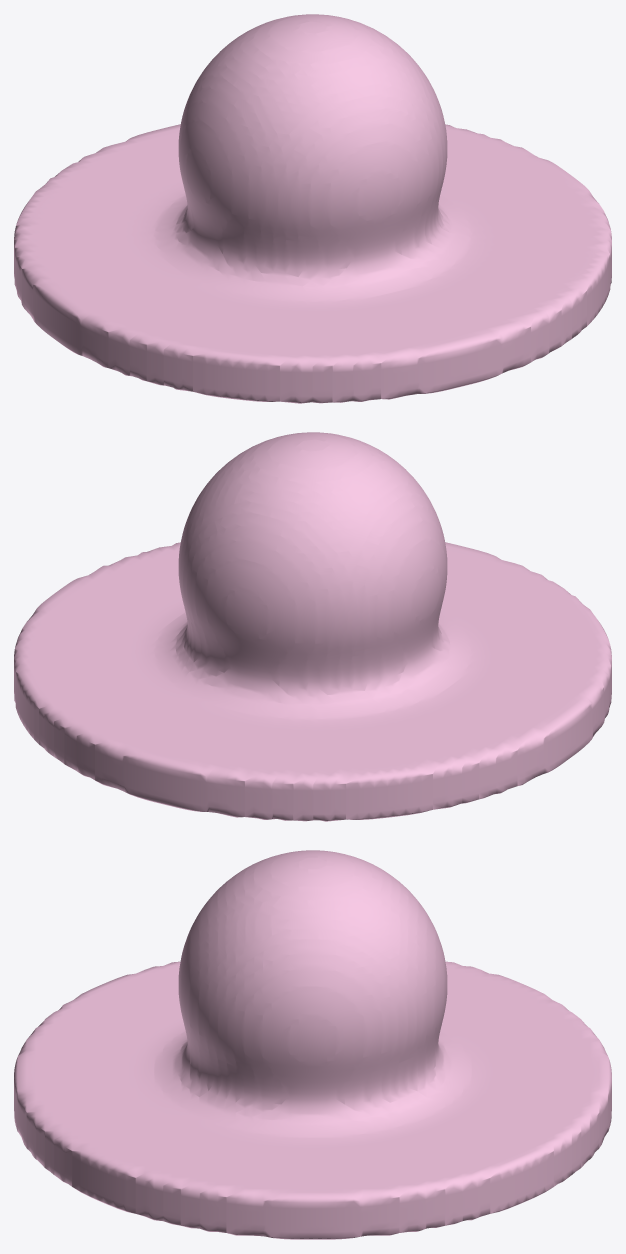
Rendered from lotus.glb.
3 views of the same model, one above another, from view 1: azimuth 30°, elevation 25°; view 2: azimuth 150°, elevation 25°; view 3: azimuth 270°, elevation 25° (orthographic).
Parts seen in each view (by area): view 1: lotus; view 2: lotus; view 3: lotus.
Boxes of the visible parts, <box> form: lotus: <box>14,14,611,403</box>; lotus: <box>14,432,611,821</box>; lotus: <box>14,850,611,1239</box>.
Bounding box in the file's own units: 2 × 0.9703 × 2.
